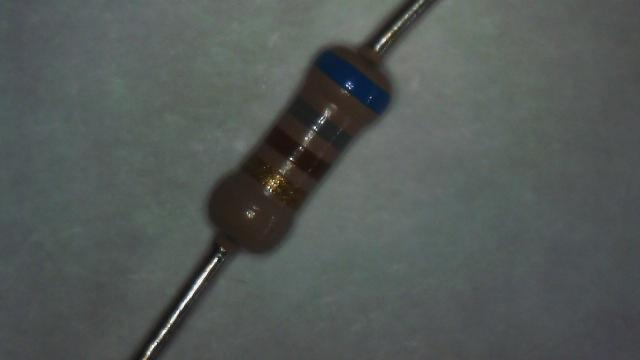blue: (314, 50, 389, 115)
brown: (265, 126, 328, 180)
gold: (245, 154, 305, 207)
grey: (288, 98, 352, 150)
resistor: (171, 25, 419, 284)
